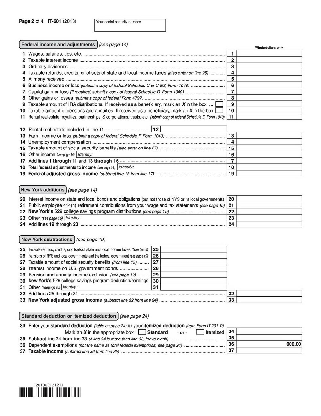checkbox: (214, 100, 225, 107), (214, 106, 225, 113), (137, 328, 148, 335), (195, 328, 206, 335)
textbox: (63, 213, 229, 222), (75, 149, 228, 158), (93, 18, 167, 33), (116, 162, 227, 171), (60, 282, 152, 292), (159, 250, 229, 260), (159, 256, 229, 266), (159, 263, 229, 273), (159, 275, 229, 285), (235, 54, 304, 64), (235, 61, 304, 71), (235, 67, 304, 77), (235, 80, 304, 90), (235, 98, 304, 108), (235, 105, 304, 115), (235, 111, 304, 121), (235, 130, 304, 140), (235, 136, 304, 146), (235, 149, 304, 159), (235, 155, 304, 165), (235, 161, 304, 171), (159, 123, 228, 133), (235, 206, 304, 216), (235, 218, 304, 228), (160, 269, 229, 279), (235, 288, 304, 298), (235, 294, 304, 304), (235, 326, 304, 336), (235, 344, 304, 354), (159, 282, 229, 291), (235, 49, 304, 58), (235, 74, 304, 83), (235, 86, 304, 95), (235, 93, 304, 102), (235, 143, 304, 152), (235, 168, 304, 177), (235, 194, 304, 203), (235, 200, 304, 209), (235, 213, 304, 222), (160, 244, 229, 253), (235, 332, 304, 341), (235, 339, 304, 348)
